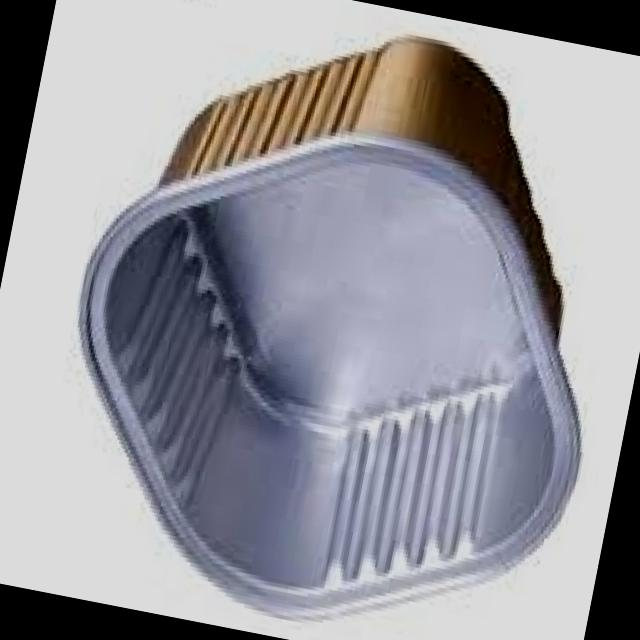kim_loai: (76, 36, 583, 622)
